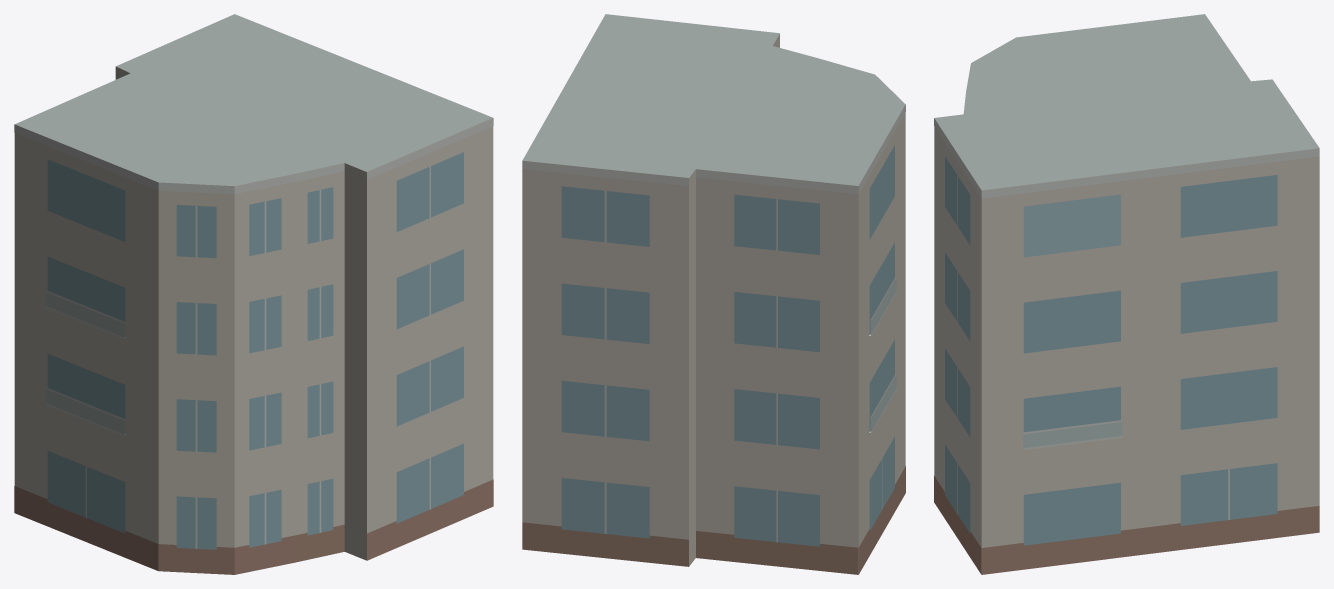
Rendered from survey-upis-32561540.glb.
3 renders of one model, left to right at view 1: azimuth 30°, elevation 25°; view 2: azimuth 150°, elevation 25°; view 3: azimuth 270°, elevation 25°, orthographic.
Parts seen in each view (by area): view 1: survey-upis-32561540.tmp; view 2: survey-upis-32561540.tmp; view 3: survey-upis-32561540.tmp.
Boxes of the visible parts, x1,y1,x2,y2 form: survey-upis-32561540.tmp: [14, 14, 493, 574]; survey-upis-32561540.tmp: [522, 14, 905, 574]; survey-upis-32561540.tmp: [934, 14, 1319, 574].
Size of the model in its own units: 11.44 by 11.6 by 10.56.
